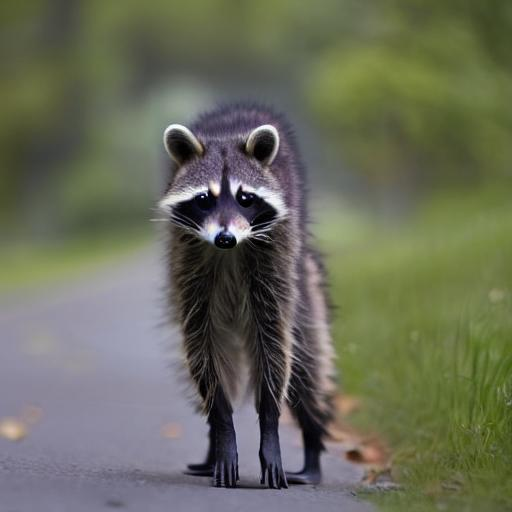raccoon: (142, 93, 350, 415)
